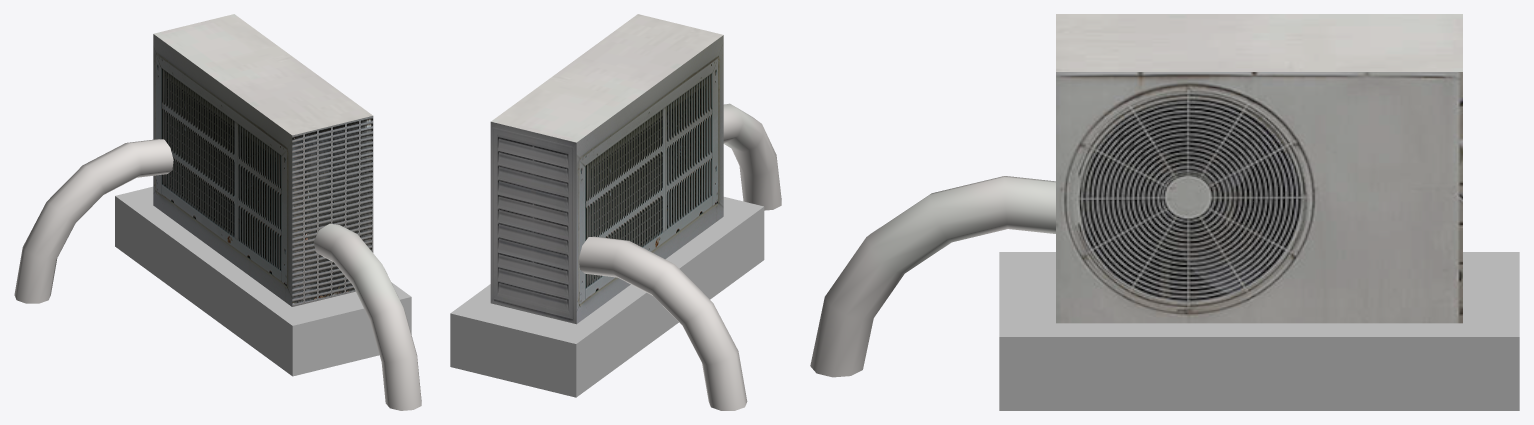
The model's file is ACUnit.FBX.
3 views of the same model, side by side, from view 1: azimuth 30°, elevation 25°; view 2: azimuth 150°, elevation 25°; view 3: azimuth 270°, elevation 25° (orthographic). The views are drawn at different scales.
Parts seen in each view (by area): view 1: acunit; view 2: acunit; view 3: acunit.
Part boxes in pixels (x1=…): acunit: x1=14, y1=14, x2=421, y2=410; acunit: x1=450, y1=14, x2=781, y2=410; acunit: x1=810, y1=14, x2=1519, y2=410.
Size of the model in its own units: 43.43 by 37.21 by 73.5.
